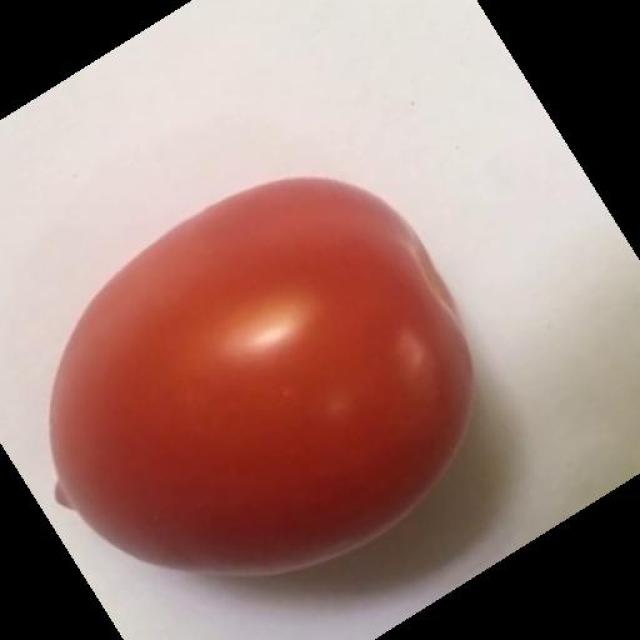ripe tomato: (35, 162, 486, 594)
